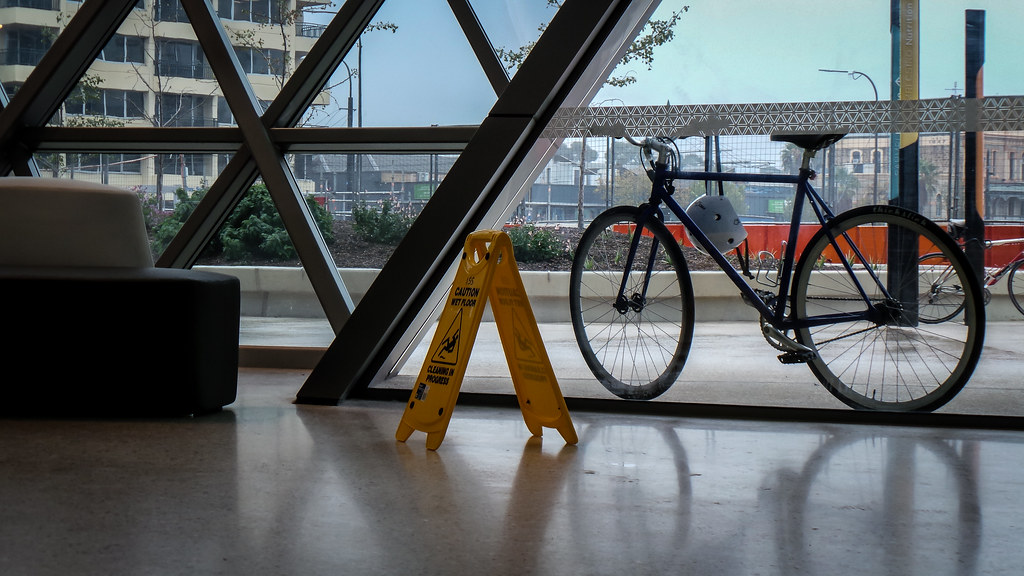cycle: (566, 101, 987, 420)
